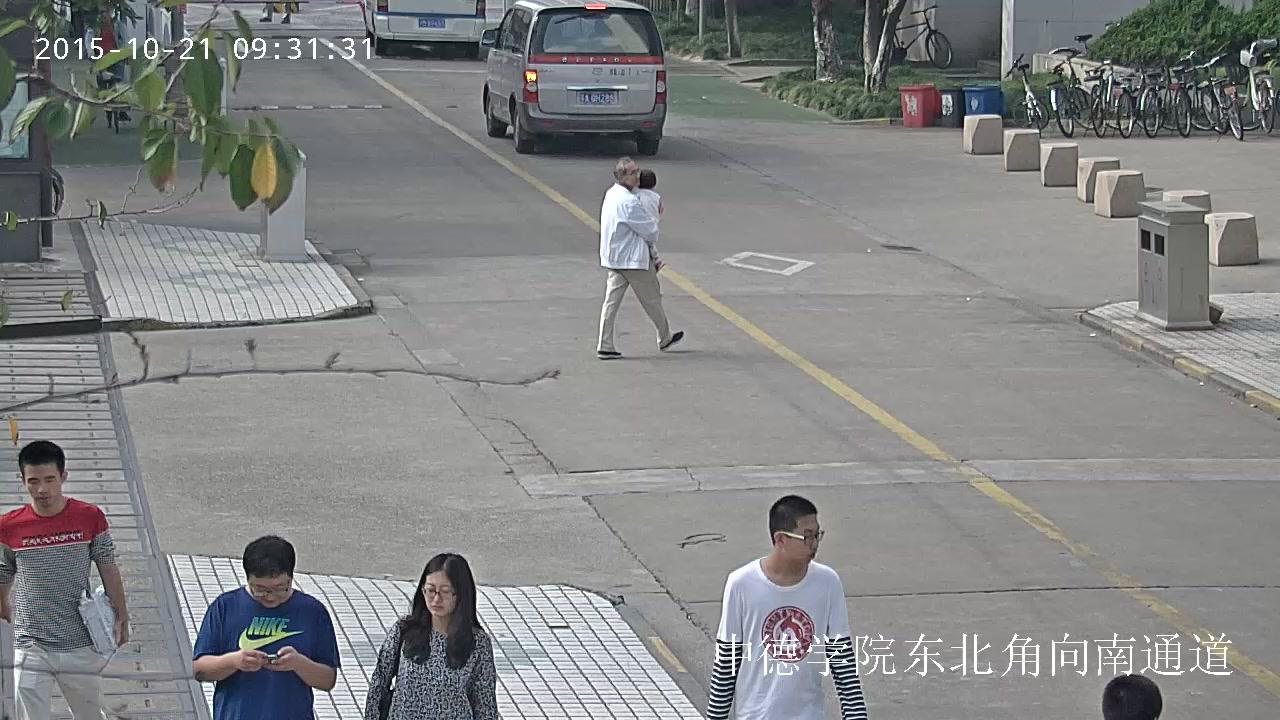face: (784, 513, 820, 562), (23, 463, 60, 505), (247, 572, 291, 607), (424, 570, 455, 616), (624, 160, 639, 185), (102, 13, 109, 22)
